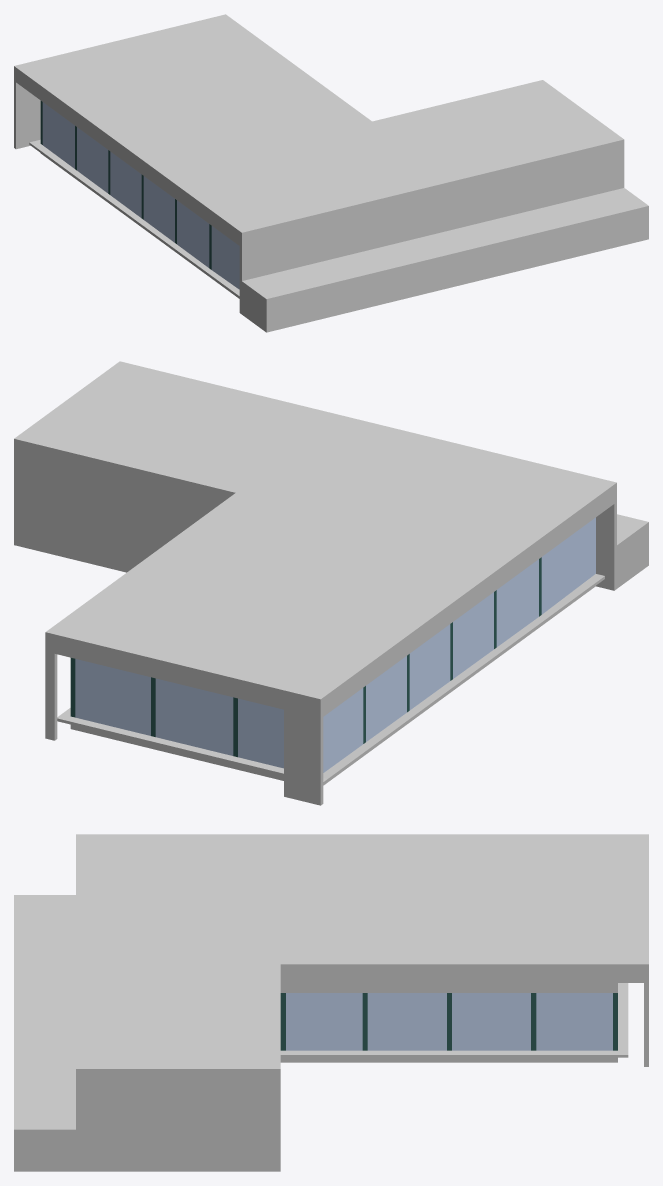
File: restaurante.glb
3 views of the same model, one above another, from view 1: azimuth 30°, elevation 25°; view 2: azimuth 150°, elevation 25°; view 3: azimuth 270°, elevation 25° (orthographic). The views are drawn at different scales.
Parts seen in each view (by area): view 1: RU; view 2: RU; view 3: RU.
Part boxes in pixels (x1,y1,x2,y2): RU: (14, 14, 648, 332); RU: (14, 361, 648, 805); RU: (14, 834, 648, 1171).
Bounding box in the file's own units: 53.8 × 11 × 61.52.
